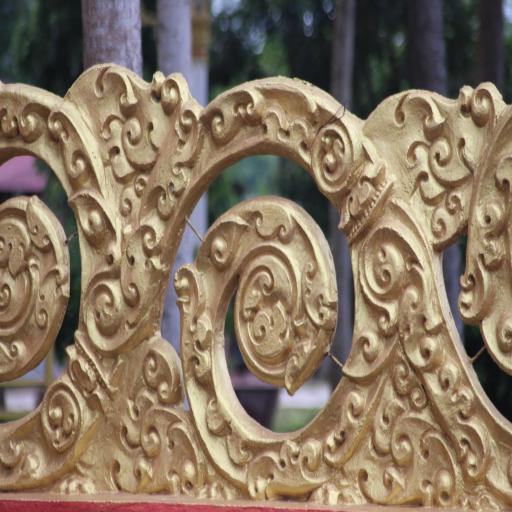la: (153, 83, 463, 510), (0, 77, 155, 508), (464, 82, 512, 381)
